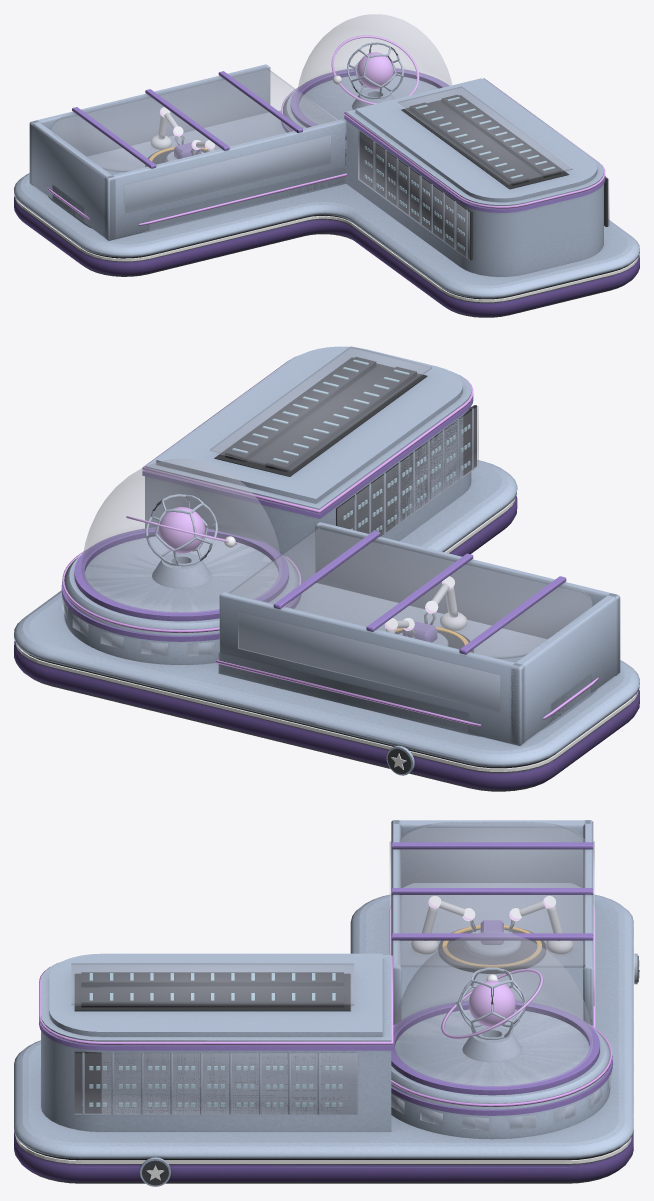
Rendered from SM_Evo_AutomationCenter.fbx.
The picture shows the model from 3 angles, top to bottom: view 1: azimuth 30°, elevation 25°; view 2: azimuth 150°, elevation 25°; view 3: azimuth 270°, elevation 25°; orthographic projection. The views are drawn at different scales.
Parts seen in each view (by area): view 1: SMN_Evo_AutomationCenter, Emblem_Fx_AutomationCenter, SpinDish_AutomationCenterA, SpinOrbit_AutomationCenter; view 2: SMN_Evo_AutomationCenter, Emblem_Fx_AutomationCenter, SpinDish_AutomationCenterB; view 3: SMN_Evo_AutomationCenter, Emblem_Fx_AutomationCenter, SpinDish_AutomationCenterB, SpinDish_AutomationCenterA, SpinOrbit_AutomationCenter.
Part boxes in pixels (x1=…): SMN_Evo_AutomationCenter: x1=14, y1=42, x2=639, y2=317; Emblem_Fx_AutomationCenter: x1=15, y1=14, x2=638, y2=302; SpinDish_AutomationCenterA: x1=150, y1=107, x2=184, y2=150; SpinOrbit_AutomationCenter: x1=331, y1=35, x2=419, y2=104; SMN_Evo_AutomationCenter: x1=14, y1=346, x2=639, y2=791; Emblem_Fx_AutomationCenter: x1=15, y1=346, x2=638, y2=771; SpinDish_AutomationCenterB: x1=424, y1=576, x2=466, y2=631; SMN_Evo_AutomationCenter: x1=14, y1=820, x2=638, y2=1186; Emblem_Fx_AutomationCenter: x1=15, y1=822, x2=639, y2=1180; SpinDish_AutomationCenterB: x1=411, y1=896, x2=475, y2=955; SpinDish_AutomationCenterA: x1=508, y1=895, x2=572, y2=955; SpinOrbit_AutomationCenter: x1=441, y1=968, x2=543, y2=1038.
Size of the model in its own units: 1.86 by 0.63 by 1.86.
